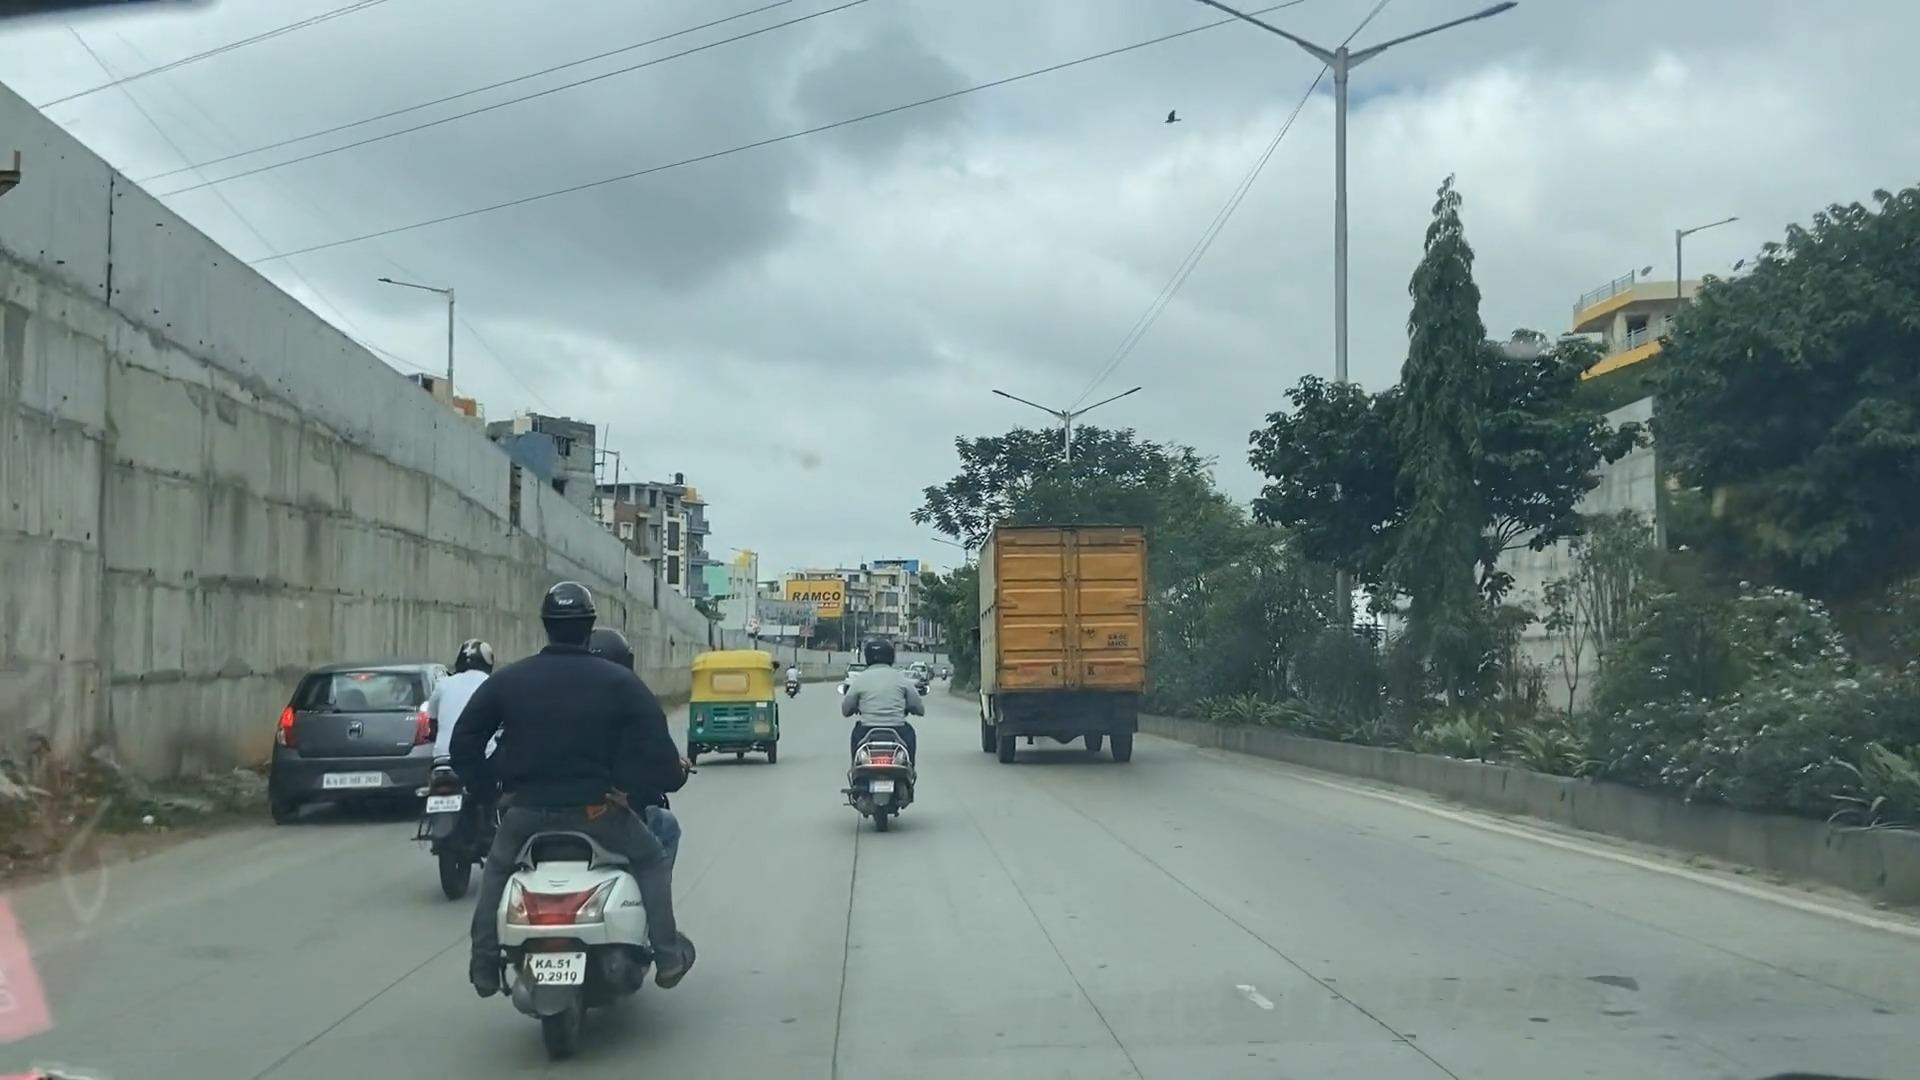HMV: (969, 487, 1163, 795)
